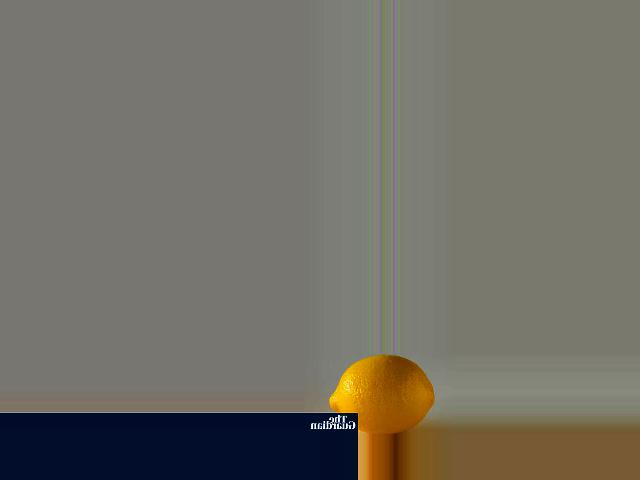lemon: (331, 354, 434, 434)
